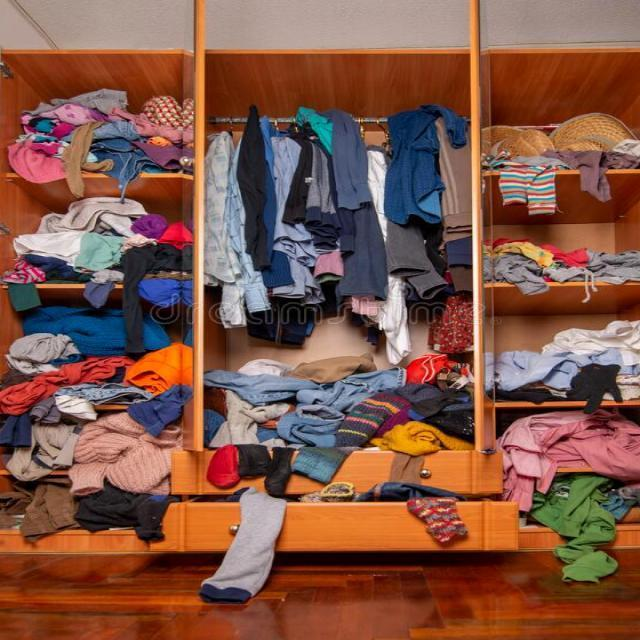clothes: (203, 142, 472, 441)
